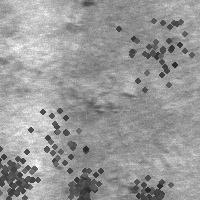rolled-in_scale: (106, 0, 200, 108), (17, 93, 109, 185), (57, 70, 138, 122), (0, 138, 47, 200), (109, 160, 181, 200), (119, 153, 179, 194), (61, 164, 101, 200)
